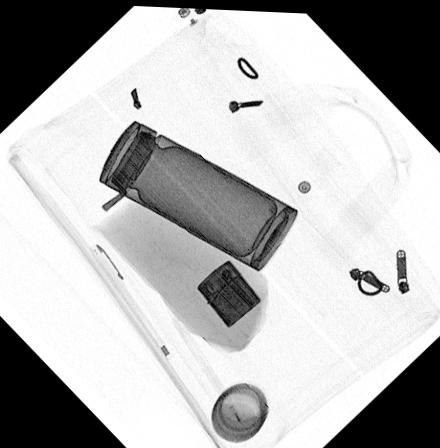Lighter: (195, 257, 261, 325)
